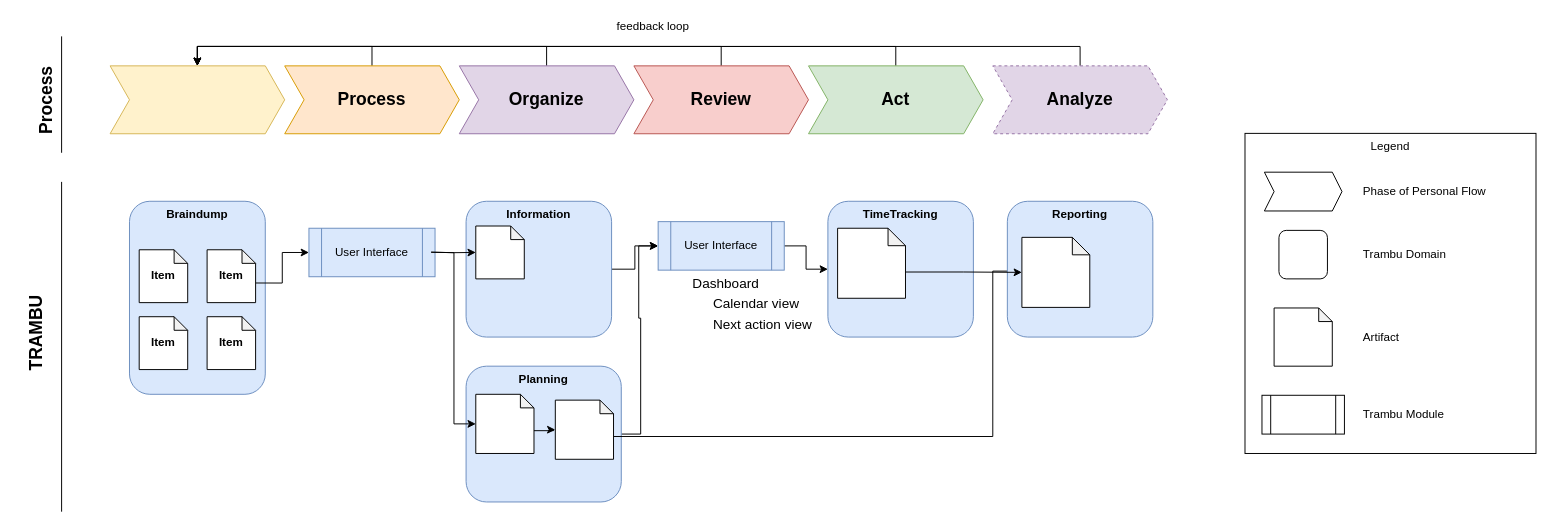
This 1553x530 diagram has some shape labels left out. Each missing label, with the centre of its shape:
"Action" goes at pixel 504 423.
"Category" goes at pixel 584 429.
"Collect" goes at pixel 197 99.
"Note" goes at pixel 499 252.
"Tiimetable" goes at pixel 871 262.
"Timesheet" goes at pixel 1055 271.
